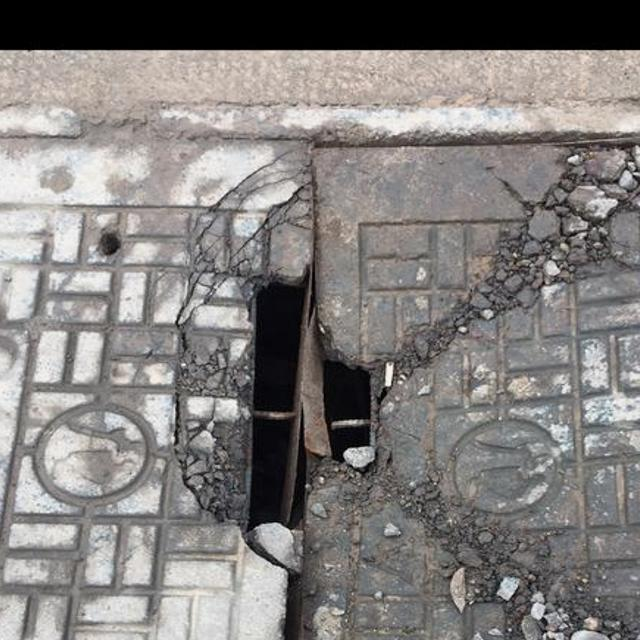broke: (1, 96, 640, 640)
